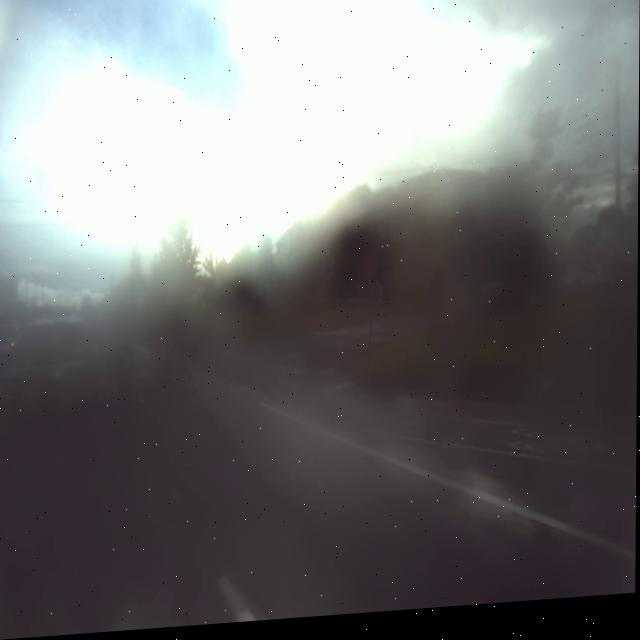car: (15, 314, 94, 421)
